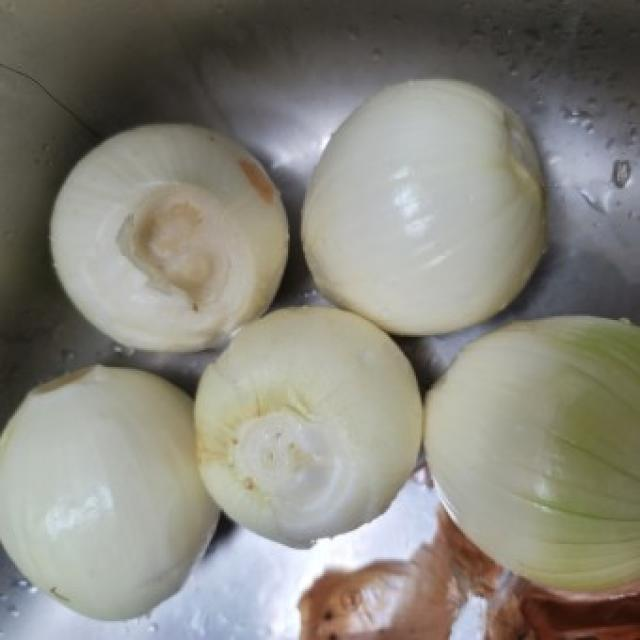onion: (29, 108, 286, 346), (434, 322, 634, 620), (326, 77, 547, 319), (206, 314, 406, 544), (3, 372, 178, 600)
